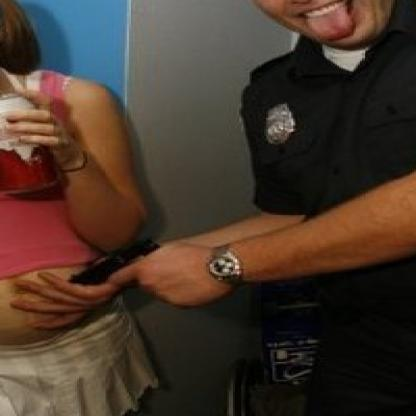gun: (48, 241, 160, 293)
